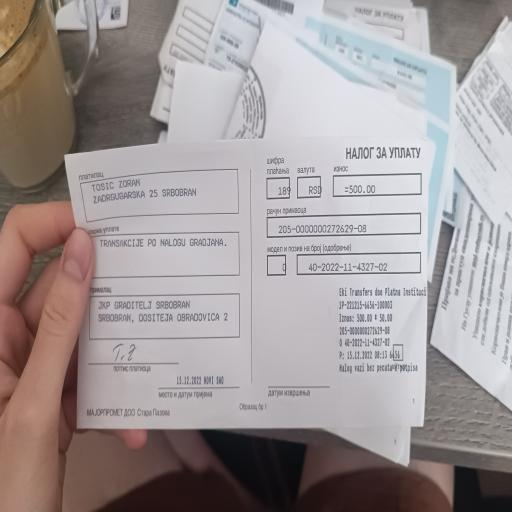mts_uplatnica: (264, 158, 421, 284)
svrha_uplate: (86, 222, 235, 262)
